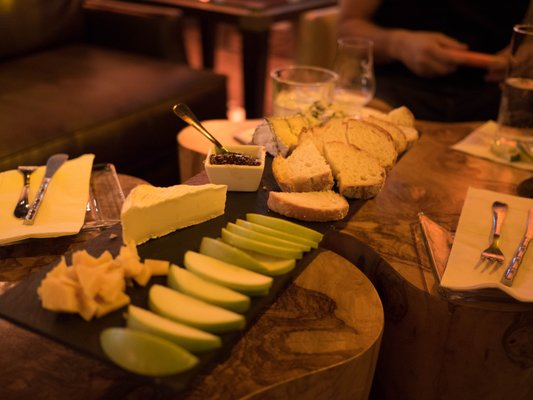pizza: (269, 65, 340, 119)
salad: (172, 102, 228, 154)
sushi: (204, 146, 267, 192)
